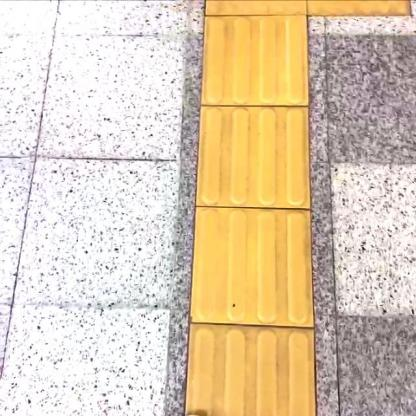podotacti: (184, 16, 316, 415)
